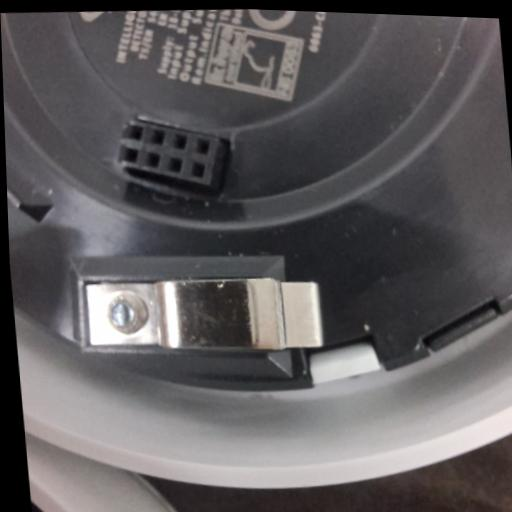yayli: (79, 265, 322, 363)
